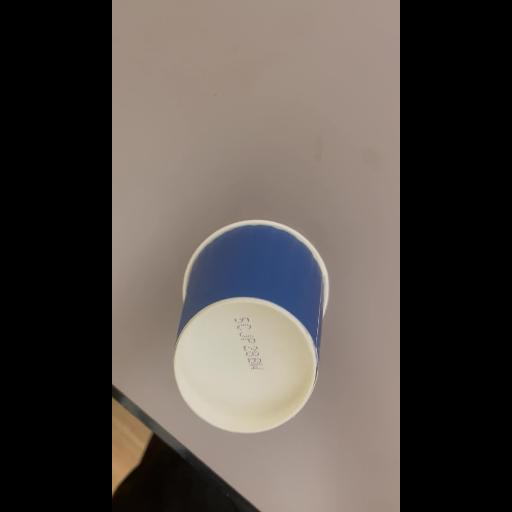lp_paper_cup: (168, 212, 332, 436)
